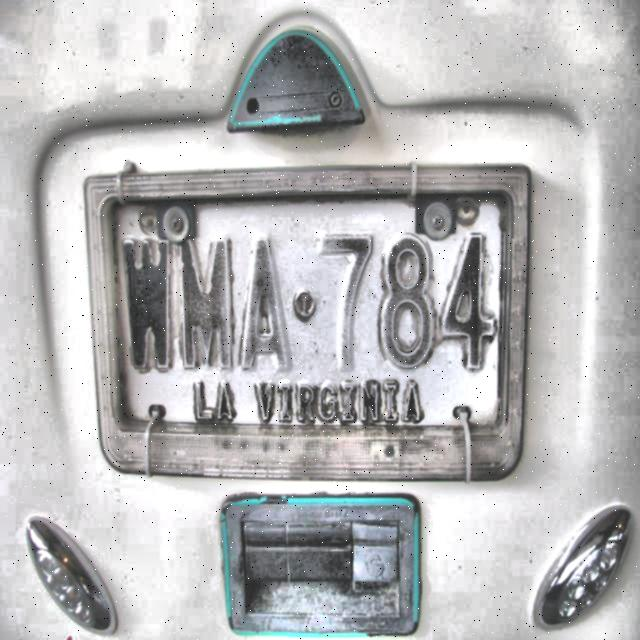plate: (112, 201, 502, 425)
